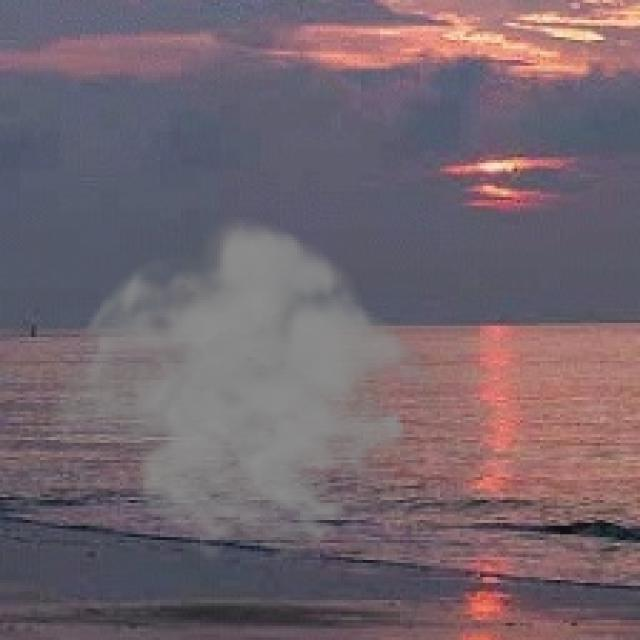smoke: (43, 214, 446, 563)
